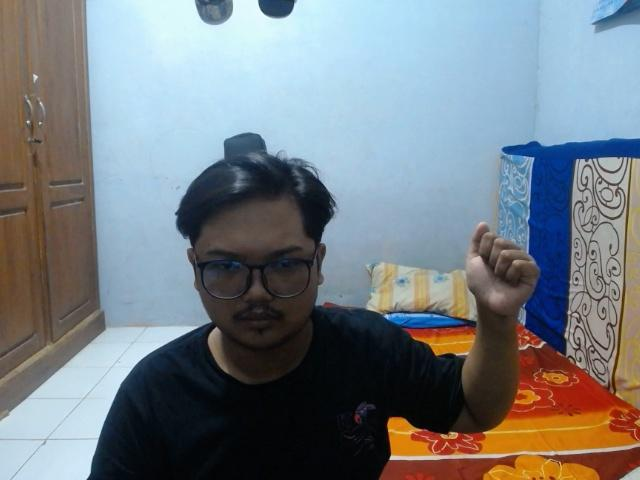Grab: (463, 220, 543, 323)
